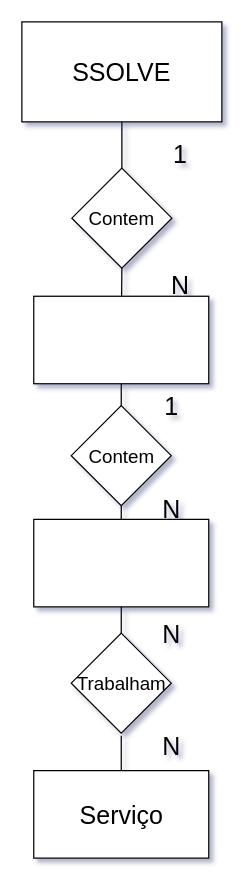
Image size: 251x888. Some labels were removed from this diagram. The shapes that lost their labels are listed below. From the top down, each one's box as (x1, y1, x2, y2) in pixels, then its label:
(32, 295, 209, 384): Cliente
(32, 518, 209, 607): Funcionario
